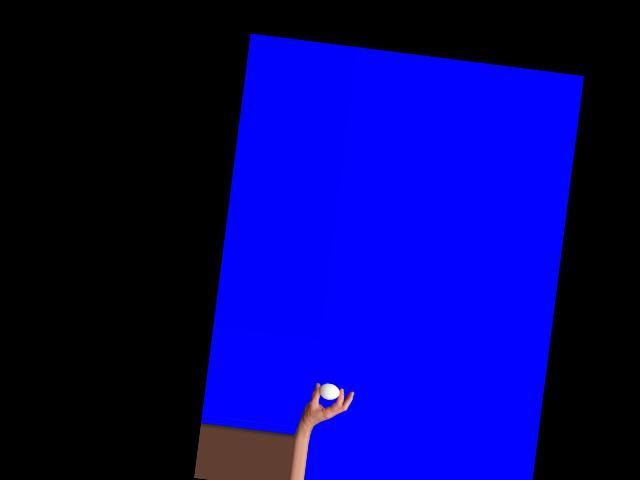egg: (318, 382, 340, 400)
